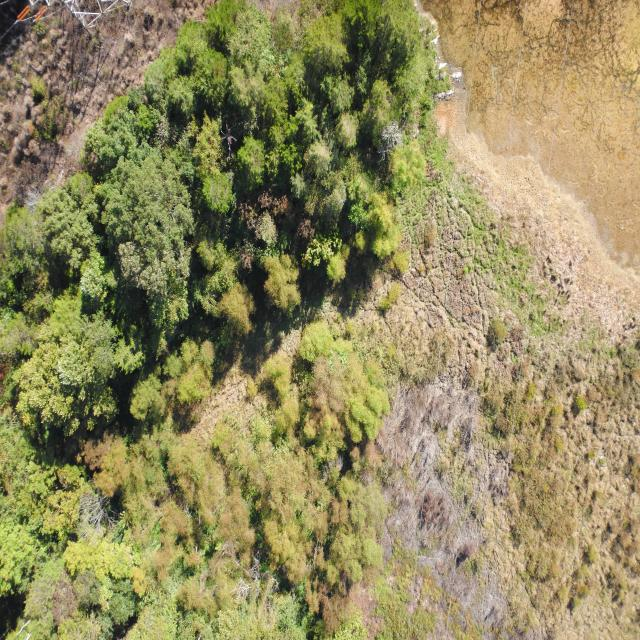Area of Interest: (5, 9, 427, 634)
